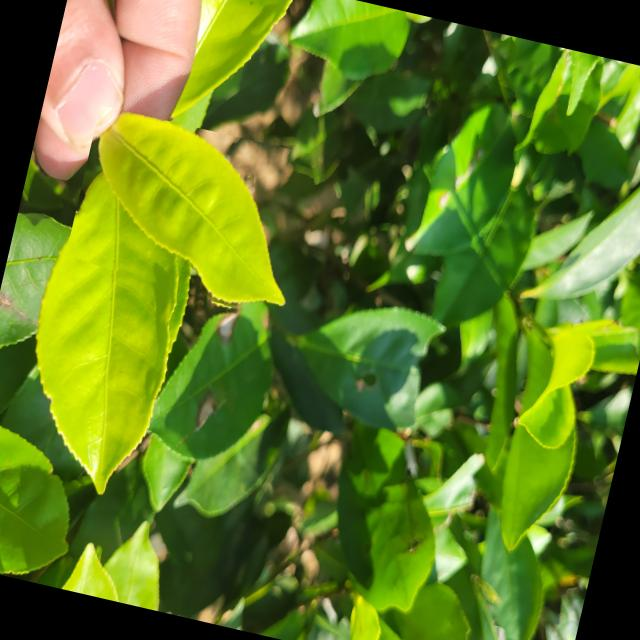Catagory A(1-2 days): (60, 105, 334, 326)
